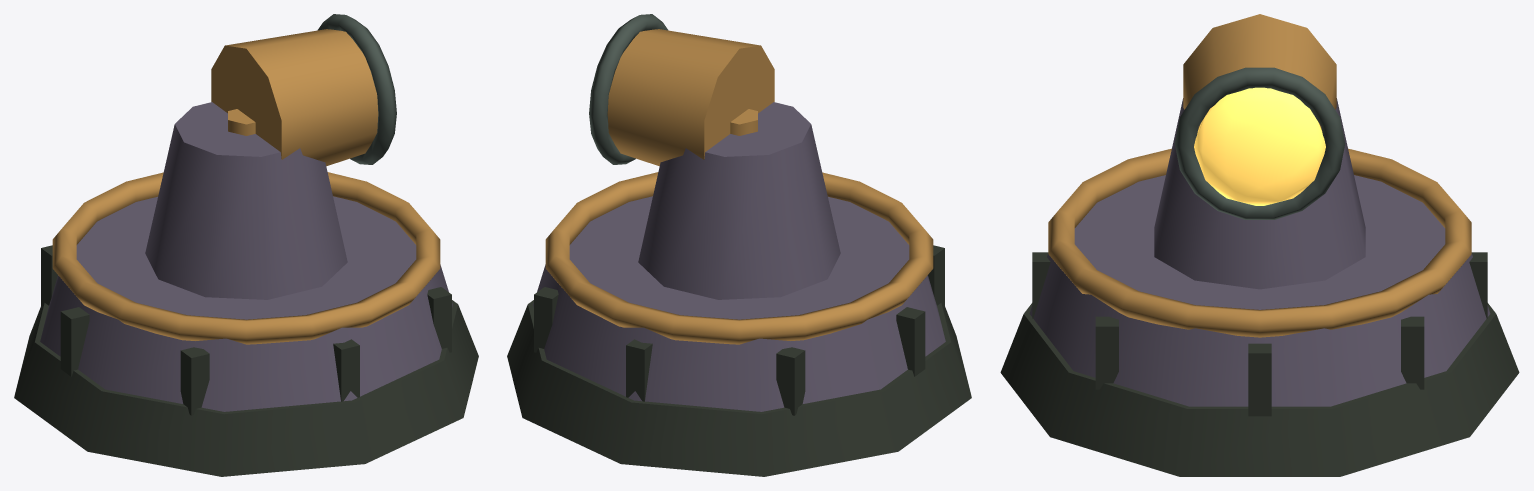
Rendered from tower_laser_laserFocus.glb.
The picture shows the model from 3 angles, left to right: view 1: azimuth 30°, elevation 25°; view 2: azimuth 150°, elevation 25°; view 3: azimuth 270°, elevation 25°; orthographic projection. The views are drawn at different scales.
Visible parts, largest first — view 1: stone_1, foot_0, column_11, lens_housing_13, rim_2, focus_ring_14, mortar_6, mortar_7, mortar_5, mortar_4, mortar_8, lens_arm_12; view 2: stone_1, foot_0, column_11, lens_housing_13, rim_2, focus_ring_14, mortar_8, mortar_7, mortar_9, mortar_10, mortar_6, lens_arm_12; view 3: stone_1, foot_0, rim_2, column_11, lens_glass_15, focus_ring_14, lens_housing_13, mortar_3, mortar_4, mortar_10, mortar_5, mortar_9.
Boxes of the visible parts, x1,y1,x2,y2 form: stone_1: [40, 196, 452, 411]; foot_0: [14, 300, 478, 476]; column_11: [145, 102, 347, 299]; lens_housing_13: [211, 29, 378, 166]; rim_2: [52, 172, 440, 344]; focus_ring_14: [317, 14, 396, 164]; mortar_6: [180, 347, 209, 415]; mortar_7: [60, 307, 89, 376]; mortar_5: [333, 339, 359, 401]; mortar_4: [427, 287, 451, 352]; mortar_8: [41, 245, 57, 306]; lens_arm_12: [228, 109, 255, 135]; stone_1: [533, 196, 945, 411]; foot_0: [507, 300, 971, 476]; column_11: [638, 102, 840, 299]; lens_housing_13: [607, 29, 774, 166]; rim_2: [545, 172, 933, 344]; focus_ring_14: [589, 14, 668, 164]; mortar_8: [776, 347, 805, 415]; mortar_7: [896, 307, 925, 376]; mortar_9: [626, 339, 652, 401]; mortar_10: [534, 287, 558, 352]; mortar_6: [928, 245, 944, 306]; lens_arm_12: [730, 109, 757, 135]; stone_1: [1029, 175, 1490, 406]; foot_0: [1000, 303, 1519, 476]; rim_2: [1048, 148, 1471, 337]; column_11: [1154, 98, 1365, 289]; lens_glass_15: [1194, 87, 1325, 205]; focus_ring_14: [1174, 67, 1345, 219]; lens_housing_13: [1183, 14, 1336, 129]; mortar_3: [1248, 343, 1271, 416]; mortar_4: [1095, 316, 1118, 389]; mortar_10: [1401, 316, 1424, 389]; mortar_5: [1032, 252, 1050, 318]; mortar_9: [1469, 252, 1487, 318].
Bounding box in the file's own units: 0.5326 × 0.4306 × 0.56.
